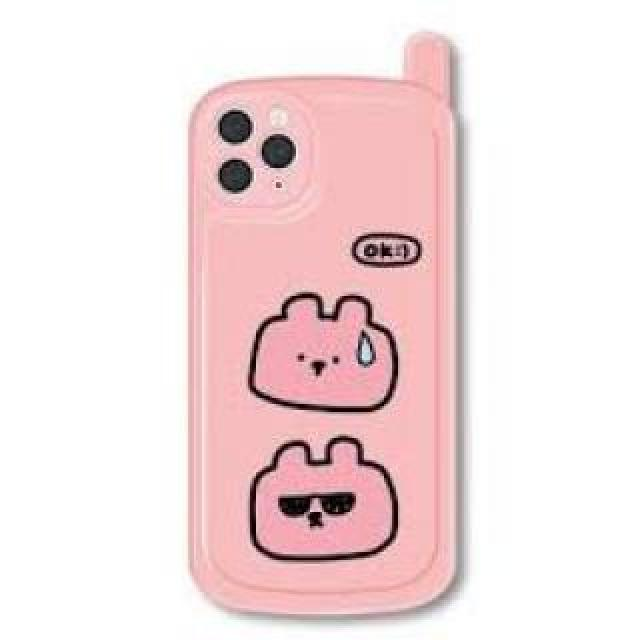smart phone: (175, 8, 457, 617)
